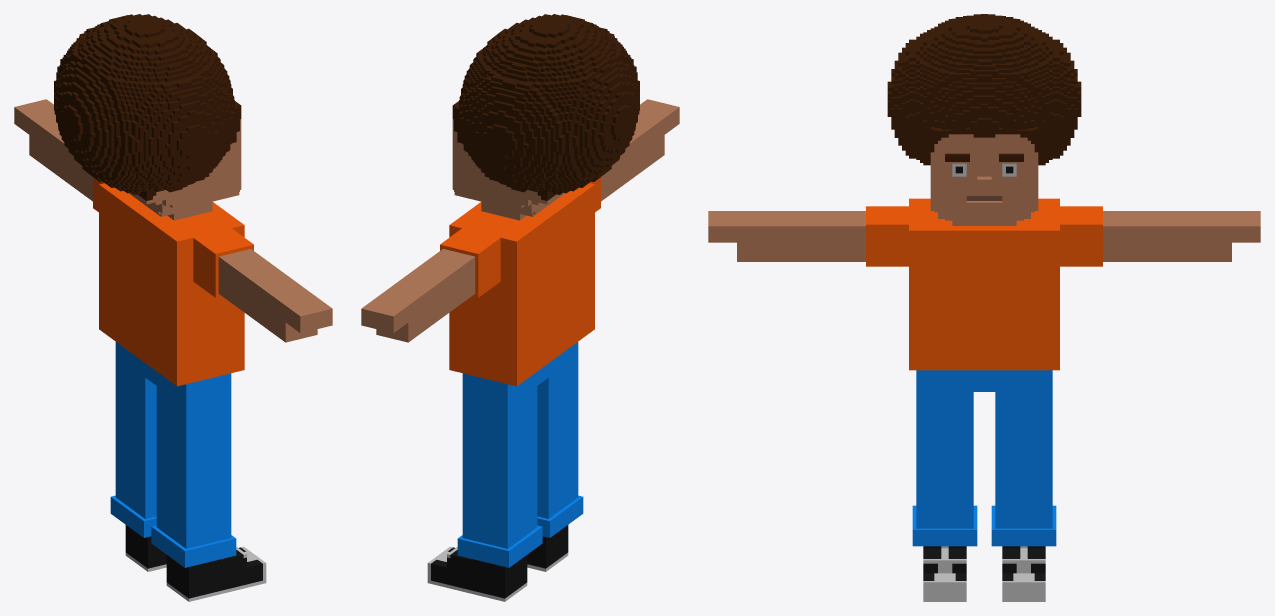
File: male_char9.obj
The picture shows the model from 3 angles, left to right: view 1: azimuth 30°, elevation 25°; view 2: azimuth 150°, elevation 25°; view 3: azimuth 270°, elevation 25°; orthographic projection. The views are drawn at different scales.
Bounding box in the file's own units: 5.1 × 16.5 × 15.4.
1 material, 1 textured.
